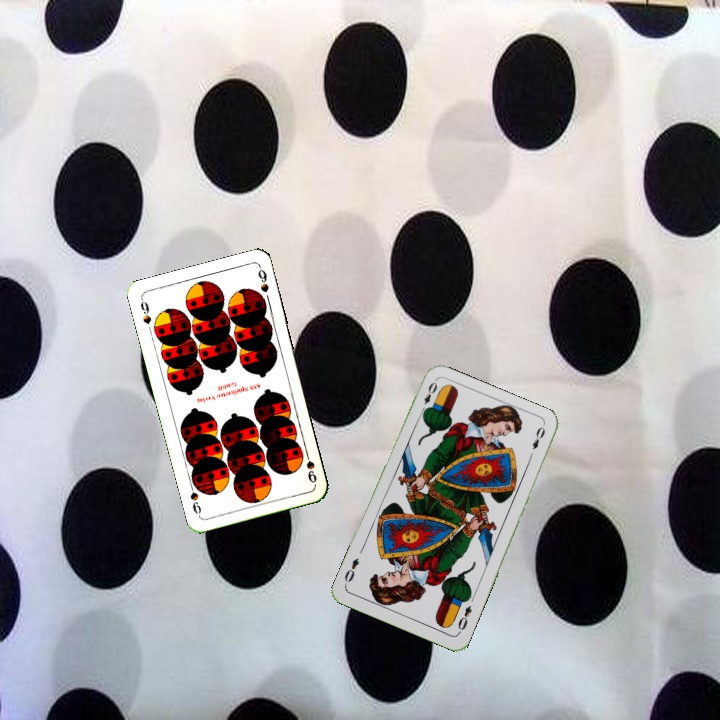EO: (416, 378, 440, 416), (454, 601, 474, 636)
S9: (301, 446, 319, 485), (136, 294, 154, 327)
